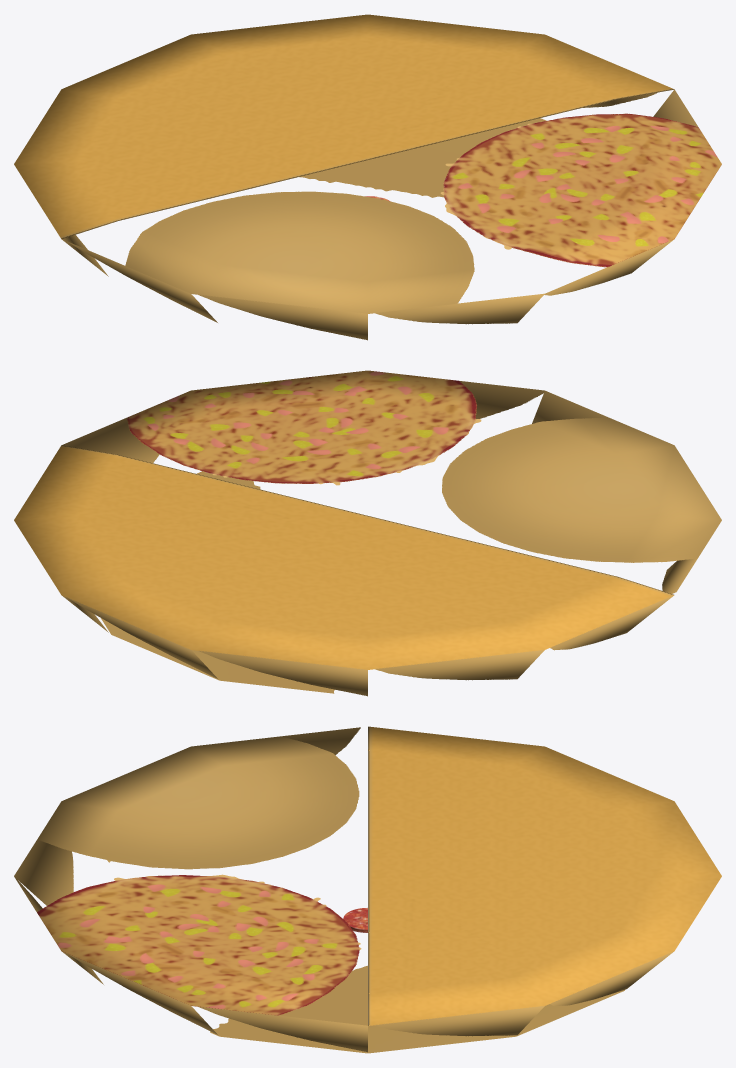
Rendered from WorldItem_NdujaSausageSlice.fbx.
3 views of the same model, one above another, from view 1: azimuth 30°, elevation 25°; view 2: azimuth 150°, elevation 25°; view 3: azimuth 270°, elevation 25° (orthographic).
Visible parts, largest first — view 1: Hawaii, Cheese; view 2: Hawaii, Cheese; view 3: Hawaii, Cheese.
Part boxes in pixels (x1,y1,x2,y2): Hawaii: (14,14,721,313); Cheese: (22,89,713,340); Hawaii: (14,370,721,693); Cheese: (22,393,713,696); Hawaii: (14,726,721,1053); Cheese: (17,747,713,1052).
Bounding box in the file's own units: 43.58 × 3.84 × 43.58.
